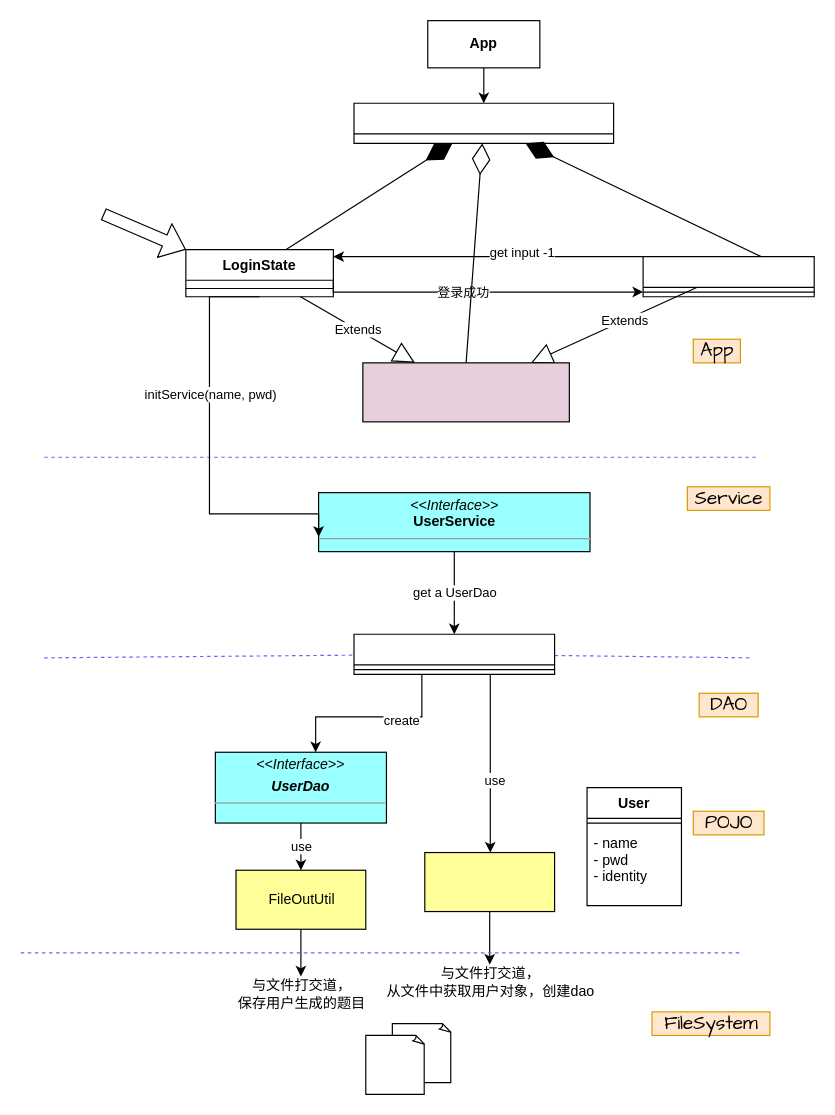
This 835x1115 diagram has some shape labels left out. The shapes that lost their labels are listed below. From the top down, each one's centre as x and y in pixels, then its label:
At pixel 483 122: "AppContext".
At pixel 728 276: "ListeningState".
At pixel 465 392: "<<abstract>> AbstractState".
At pixel 454 653: "UserDaoFactory".
At pixel 489 881: "FileInUtil".
